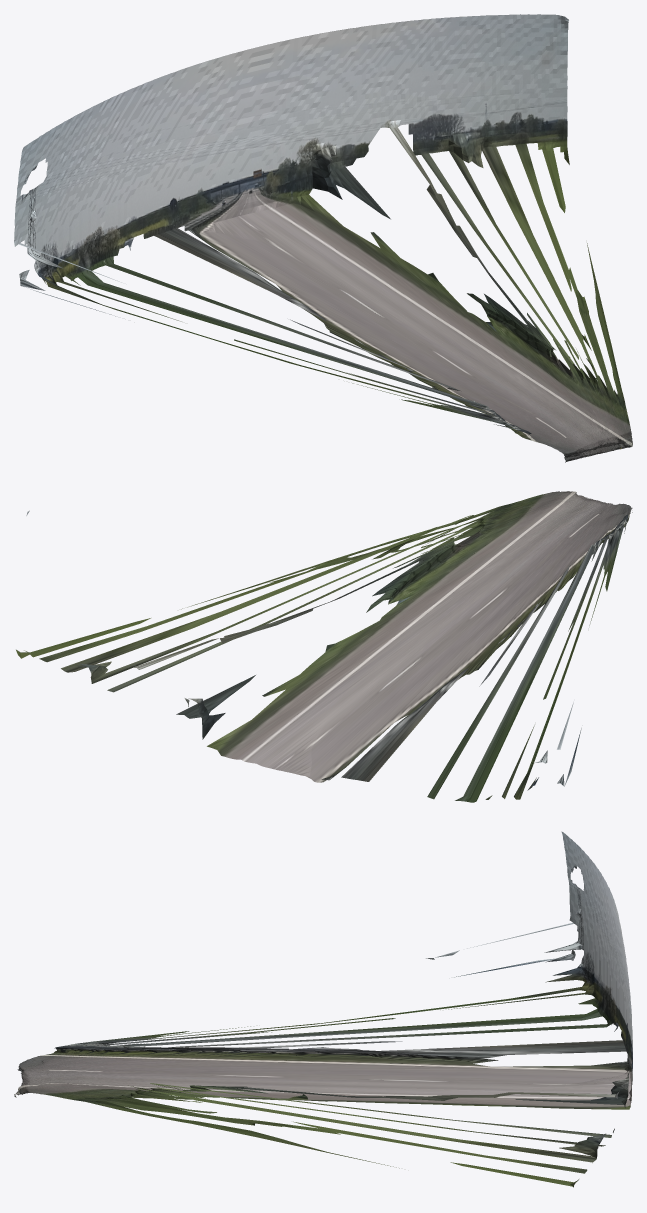
The picture shows the model from 3 angles, top to bottom: view 1: azimuth 30°, elevation 25°; view 2: azimuth 150°, elevation 25°; view 3: azimuth 270°, elevation 25°; orthographic projection. The views are drawn at different scales.
Visible parts, largest first — view 1: defaultobject; view 2: defaultobject; view 3: defaultobject.
Boxes of the visible parts, x1=… form: defaultobject: x1=14, y1=14, x2=632, y2=462; defaultobject: x1=16, y1=491, x2=632, y2=802; defaultobject: x1=14, y1=831, x2=632, y2=1187.
Size of the model in its own units: 41.14 by 12.64 by 44.58.
1 material, 1 textured.
